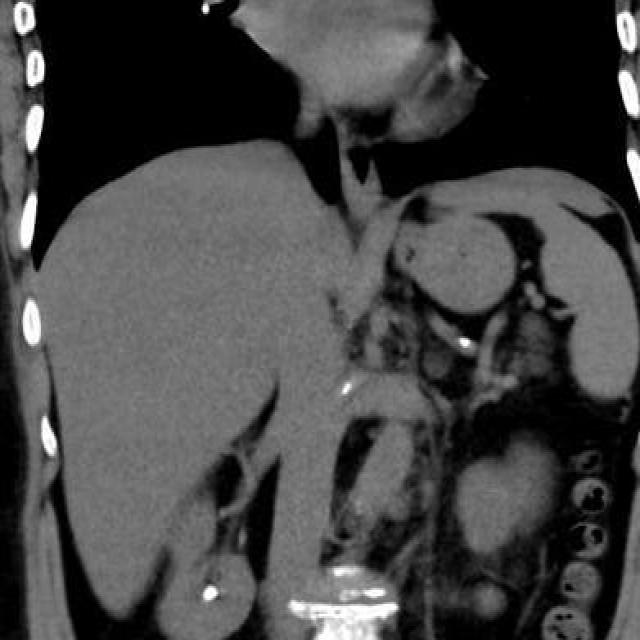Tas_Var: (196, 578, 222, 614)
